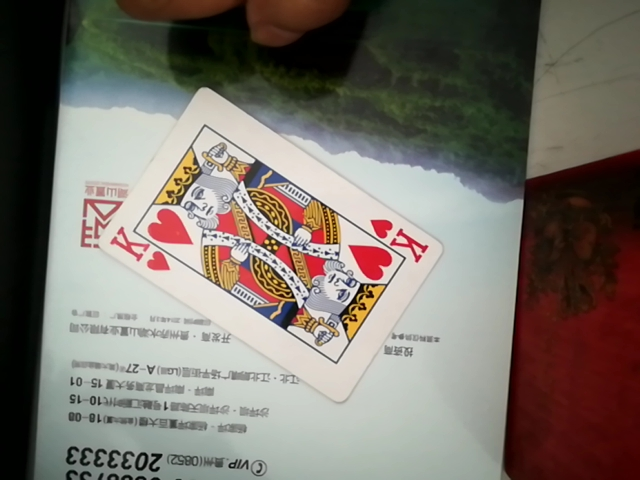hx k: (60, 90, 468, 392)
